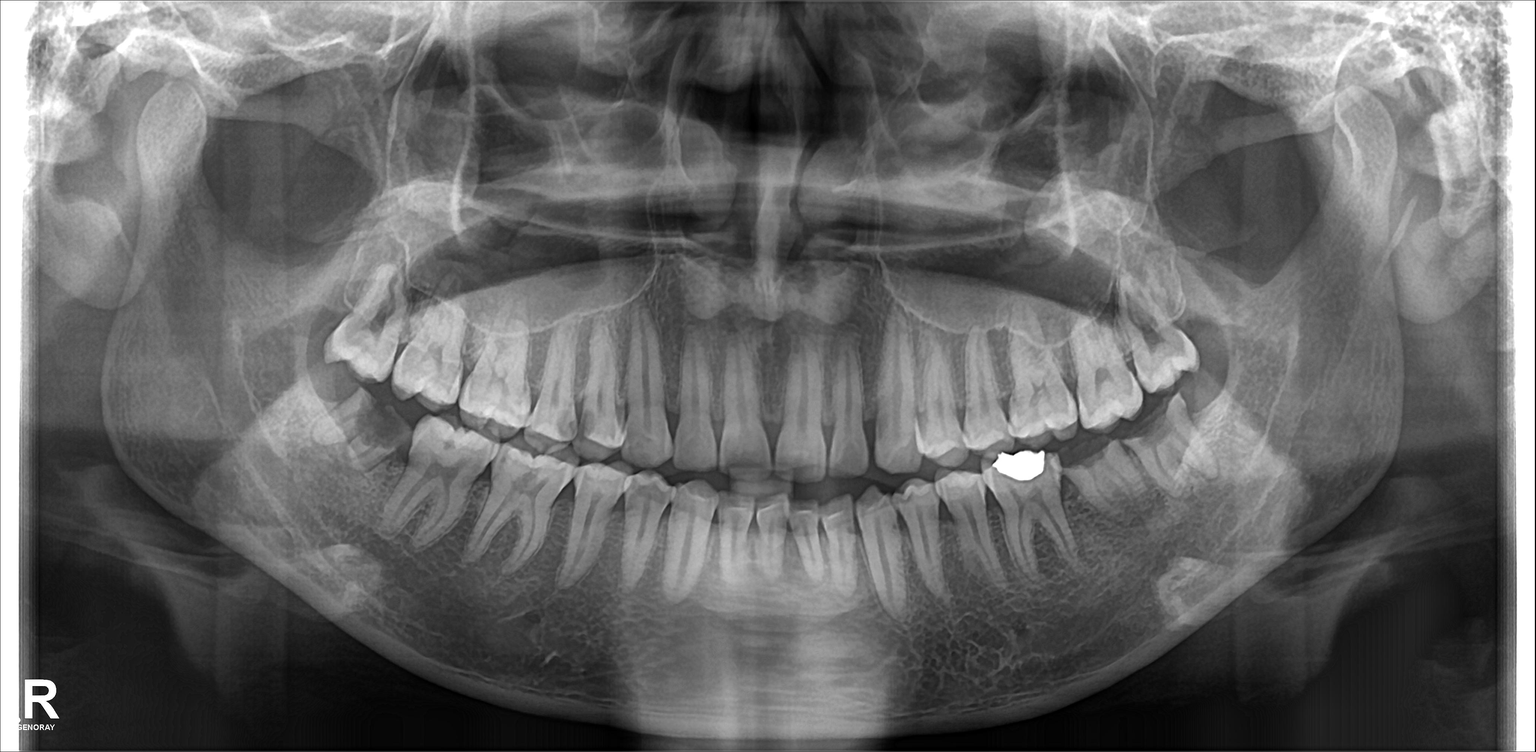Dental Caries: (358, 404, 402, 448)
Impacted Third Molar: (318, 396, 411, 459)
